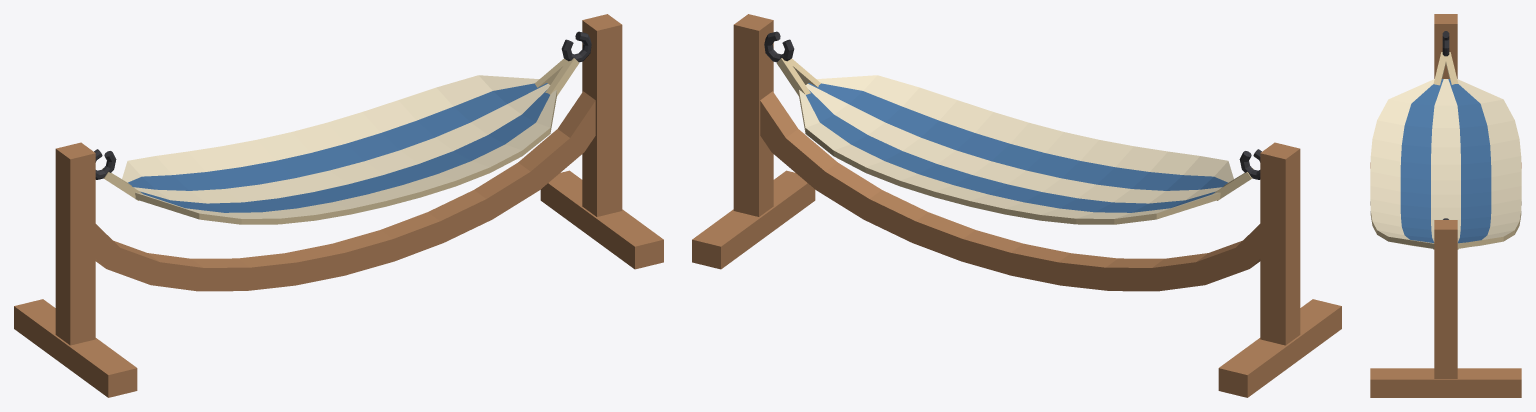
Rendered from FMS_Garden_Hammock.fbx.
3 views of the same model, side by side, from view 1: azimuth 30°, elevation 25°; view 2: azimuth 150°, elevation 25°; view 3: azimuth 270°, elevation 25° (orthographic). The views are drawn at different scales.
Parts seen in each view (by area): view 1: FMS_Garden_Hammock_Body; view 2: FMS_Garden_Hammock_Body; view 3: FMS_Garden_Hammock_Body.
Part boxes in pixels (box(x1,y1,x2,y2)): FMS_Garden_Hammock_Body: box(14, 14, 663, 397); FMS_Garden_Hammock_Body: box(692, 14, 1341, 397); FMS_Garden_Hammock_Body: box(1370, 14, 1521, 397).
Size of the model in its own units: 3.06 by 1.1 by 0.9.
Materials: 1 (1 with a texture image).
